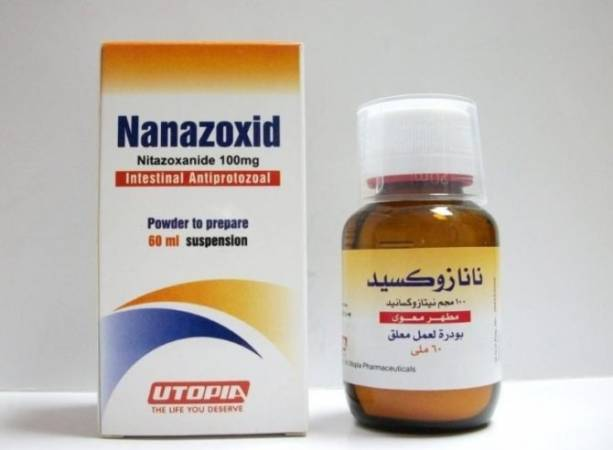Medicine: (94, 33, 316, 444), (333, 86, 516, 436)
